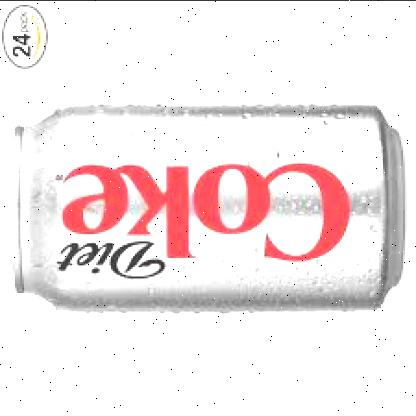Can: (12, 103, 408, 314)
